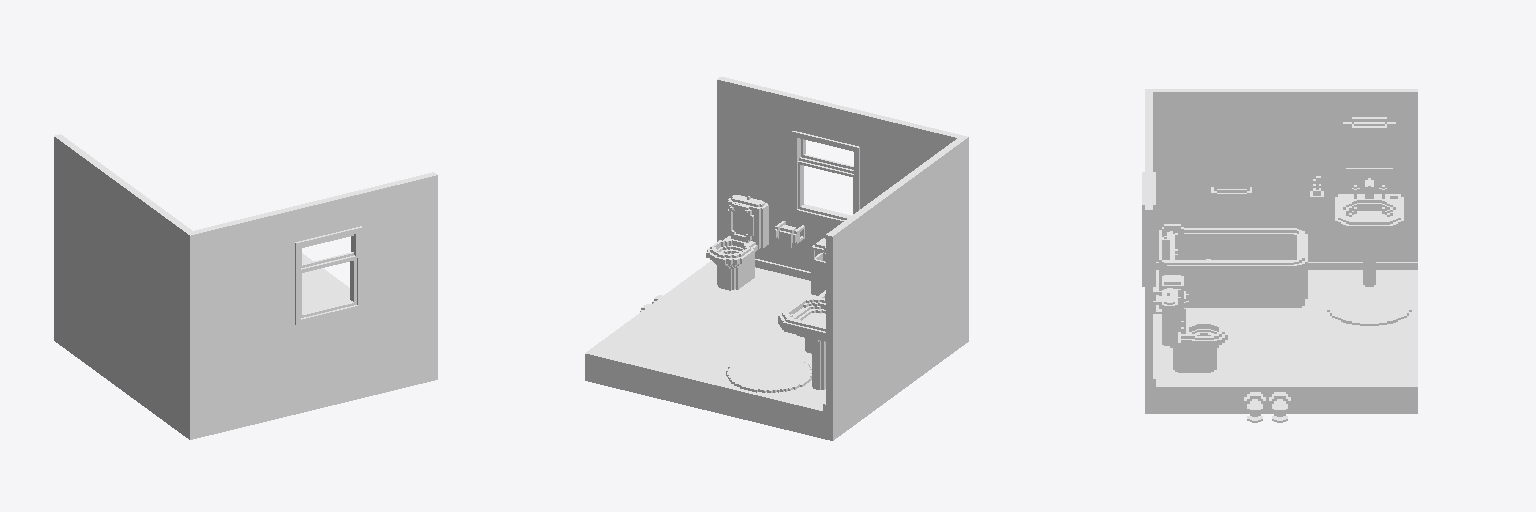
The model's file is Bathroom.obj.
3 views of the same model, side by side, from view 1: azimuth 30°, elevation 25°; view 2: azimuth 150°, elevation 25°; view 3: azimuth 270°, elevation 25° (orthographic).
Visible parts, largest first — view 1: Bathroom; view 2: Bathroom; view 3: Bathroom.
Boxes of the visible parts, box(x1,y1,x2,y2) form: Bathroom: box(54, 134, 437, 439); Bathroom: box(585, 77, 968, 440); Bathroom: box(1142, 89, 1417, 422).
Bounding box in the file's own units: 112 × 82 × 100.